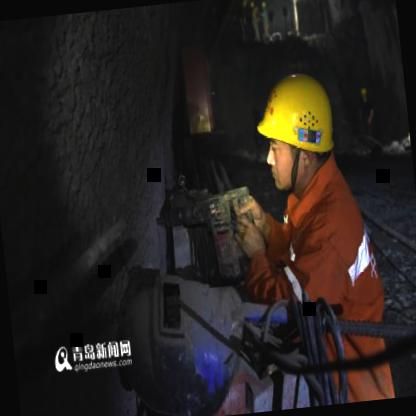helmet: (246, 54, 351, 206)
